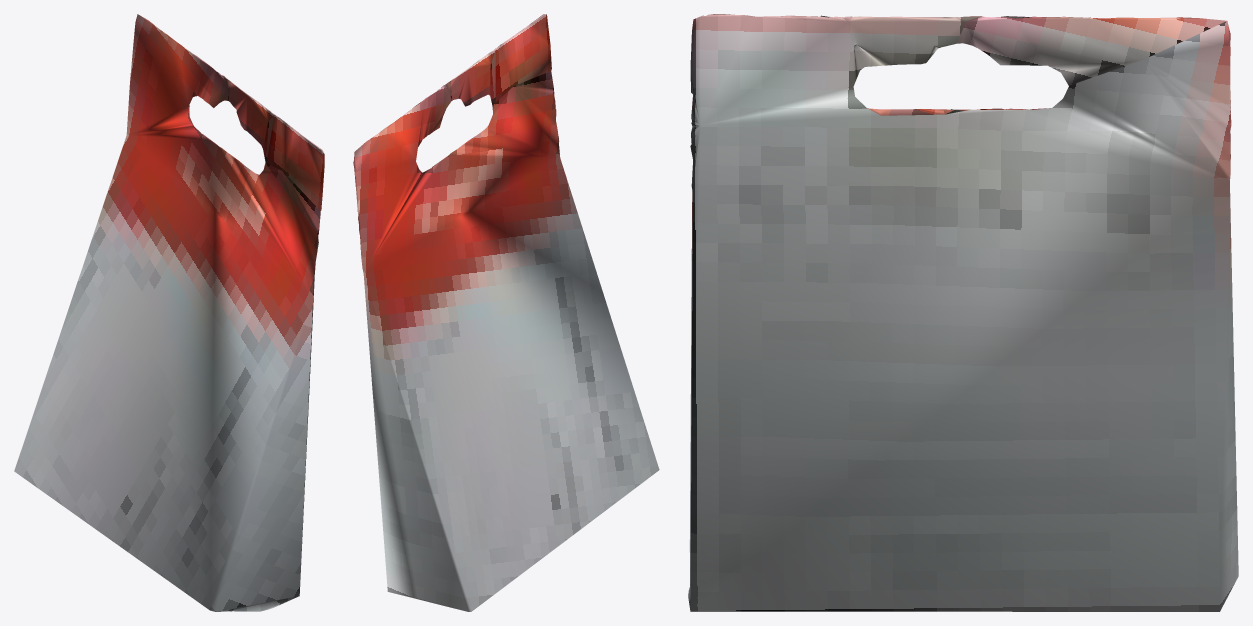
Rendered from Canon_Pixma_Chromalife_100_Magenta_8-low.glb.
3 renders of one model, left to right at view 1: azimuth 30°, elevation 25°; view 2: azimuth 150°, elevation 25°; view 3: azimuth 270°, elevation 25°, orthographic. The views are drawn at different scales.
Visible parts, largest first — view 1: Canon_Pixma_Chromalife_100_Magenta_8; view 2: Canon_Pixma_Chromalife_100_Magenta_8; view 3: Canon_Pixma_Chromalife_100_Magenta_8.
Part boxes in pixels (left/top/right/bottom): Canon_Pixma_Chromalife_100_Magenta_8: left=14, top=14, right=324, bottom=611; Canon_Pixma_Chromalife_100_Magenta_8: left=353, top=14, right=659, bottom=611; Canon_Pixma_Chromalife_100_Magenta_8: left=688, top=14, right=1238, bottom=611.
Size of the model in its own units: 0.0321 by 0.1129 by 0.0906.
Materials: 1 (1 with a texture image).
